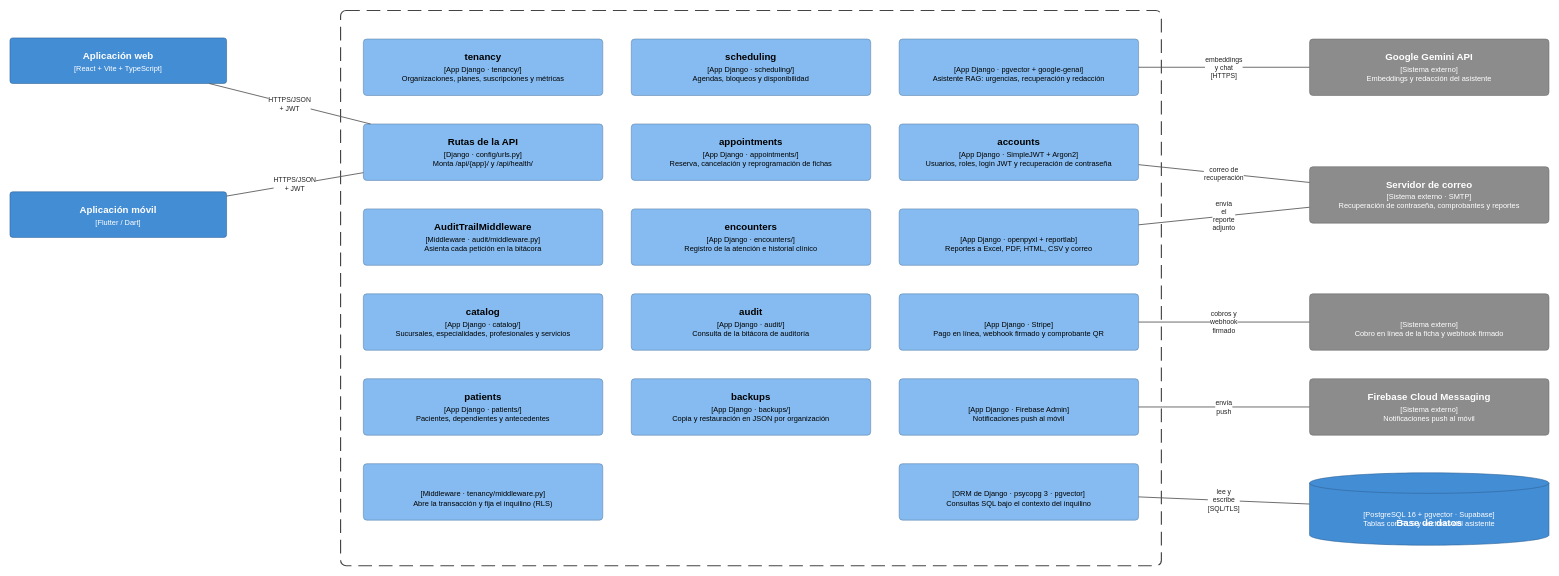
Some shapes in this 1559 by 576 pixel diagram are drawn without their labels. Each missing label, with the box of its shape:
Acceso a datos: (899, 463, 1139, 520)
API REST — backend [Python 3.13 · Django 5.2 + DRF]: (340, 10, 1162, 566)
assistant: (899, 38, 1139, 95)
notifications: (899, 378, 1139, 435)
payments: (899, 293, 1139, 350)
reporting: (899, 208, 1139, 265)
Stripe: (1309, 293, 1549, 350)
TenantMiddleware: (363, 463, 603, 520)
